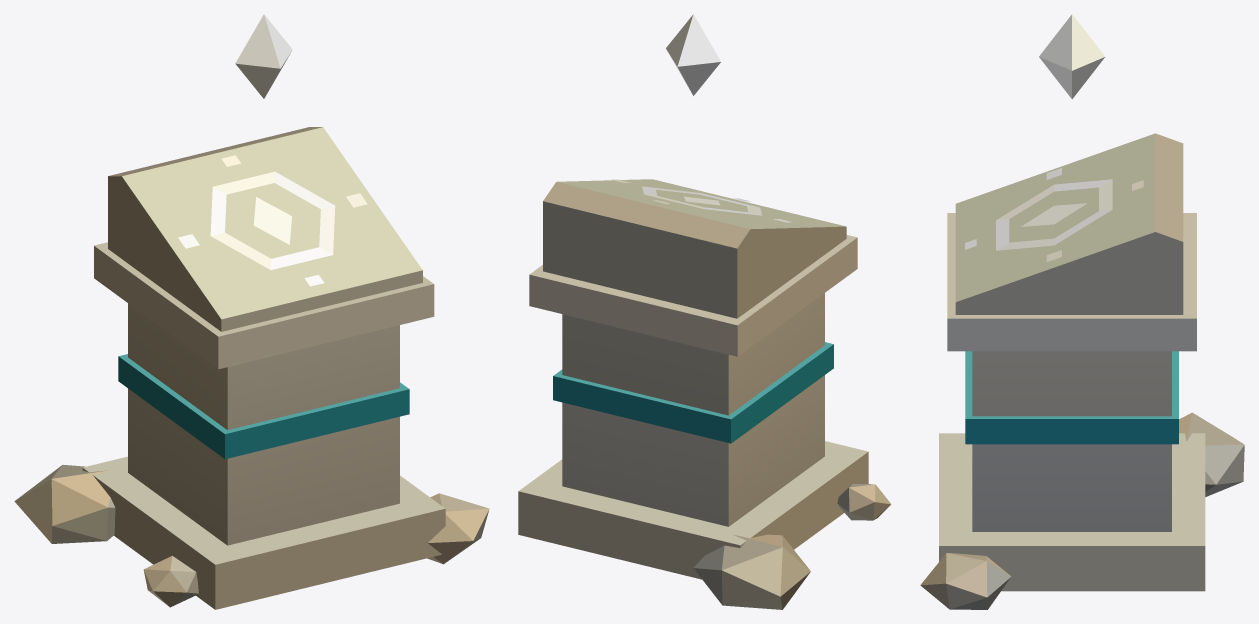
Rendered from task_stone.glb.
3 renders of one model, left to right at view 1: azimuth 30°, elevation 25°; view 2: azimuth 150°, elevation 25°; view 3: azimuth 270°, elevation 25°, orthographic. The views are drawn at different scales.
Parts seen in each view (by area): view 1: task_stone, rune; view 2: task_stone, rune; view 3: task_stone, rune.
Boxes of the visible parts, left/top/right/bottom form: task_stone: left=14, top=127, right=489, bottom=609; rune: left=178, top=14, right=367, bottom=286; task_stone: left=518, top=179, right=891, bottom=609; rune: left=611, top=14, right=792, bottom=222; task_stone: left=920, top=133, right=1244, bottom=609; rune: left=965, top=14, right=1143, bottom=261.
Bounding box in the file's own units: 1.39 × 2.14 × 1.17.
